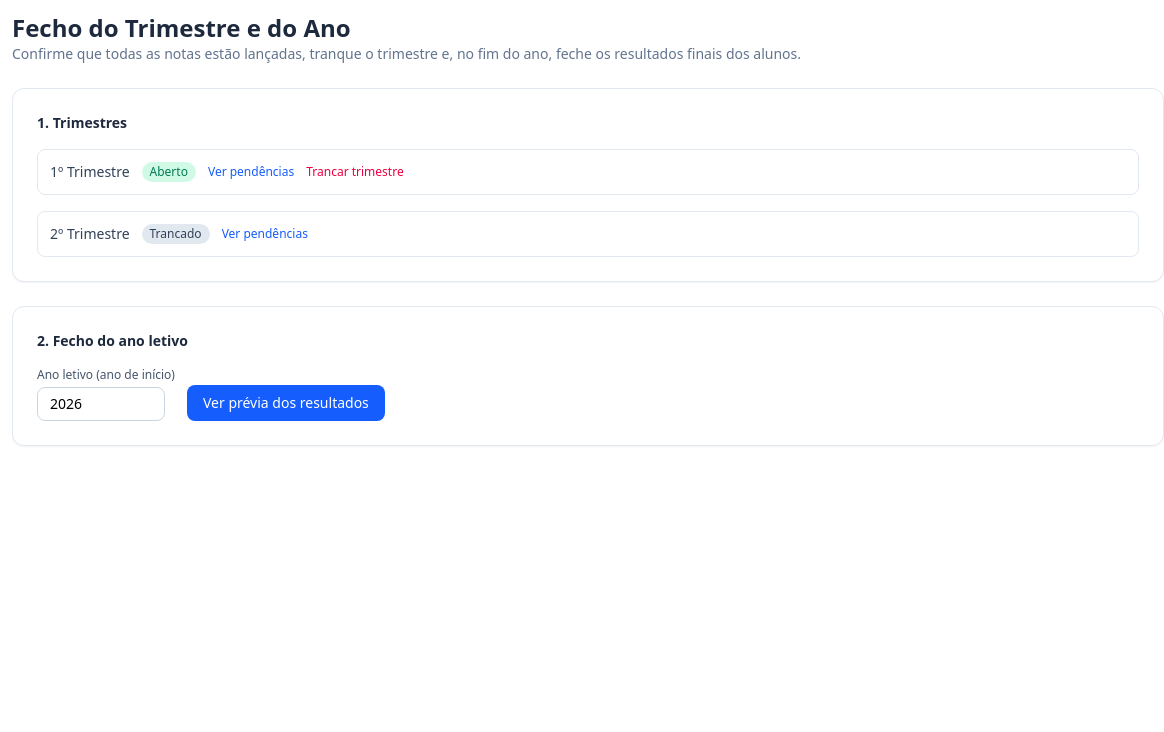
Test case: FechoAnoComponent › mostra a prévia do ano com os resultados por aluno
Click the button "Ver prévia dos resultados" at [286, 403], box [187, 385, 385, 421]
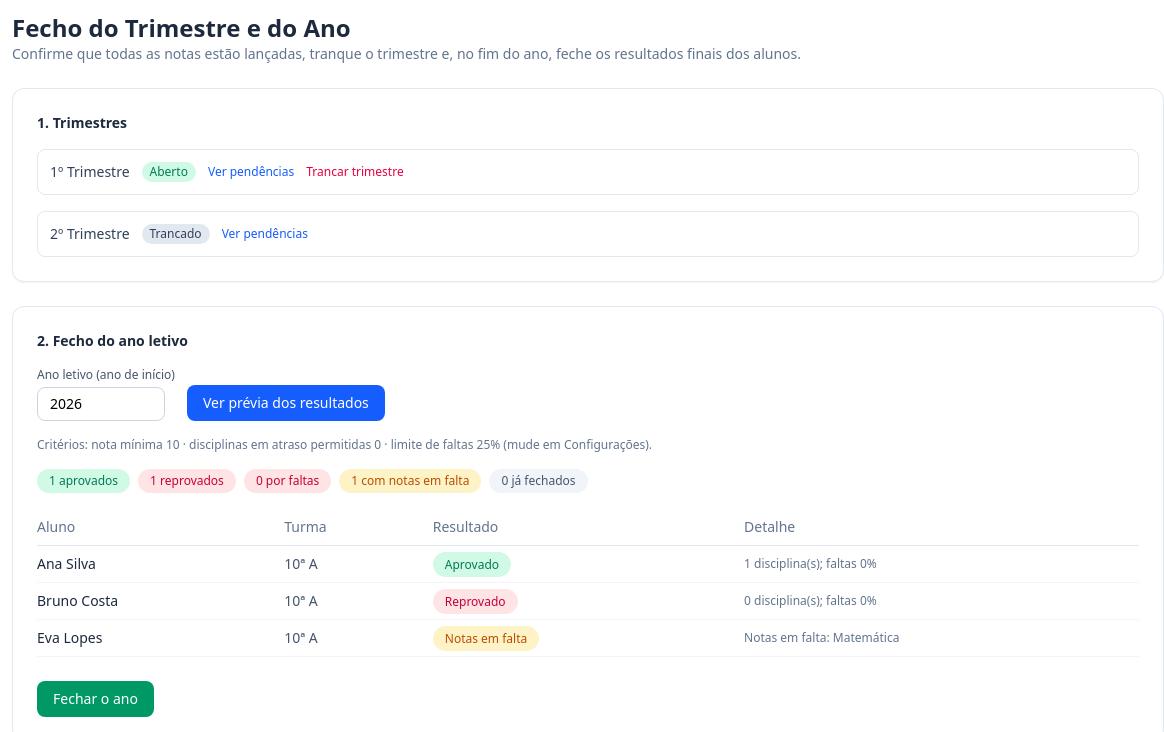
Now the text "Ana Silva" is shown, box [37, 546, 284, 582]
Now the text "aprovado" is shown, box [49, 472, 118, 489]
Now the text "reprovado" is shown, box [150, 472, 224, 489]
